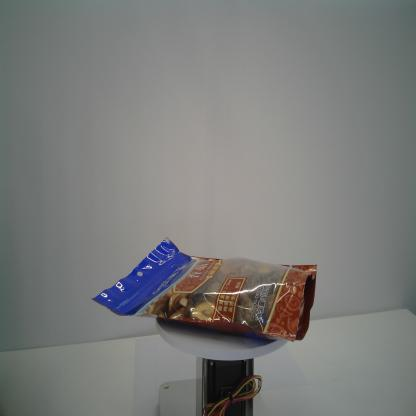Dried Food: (90, 236, 316, 343)
